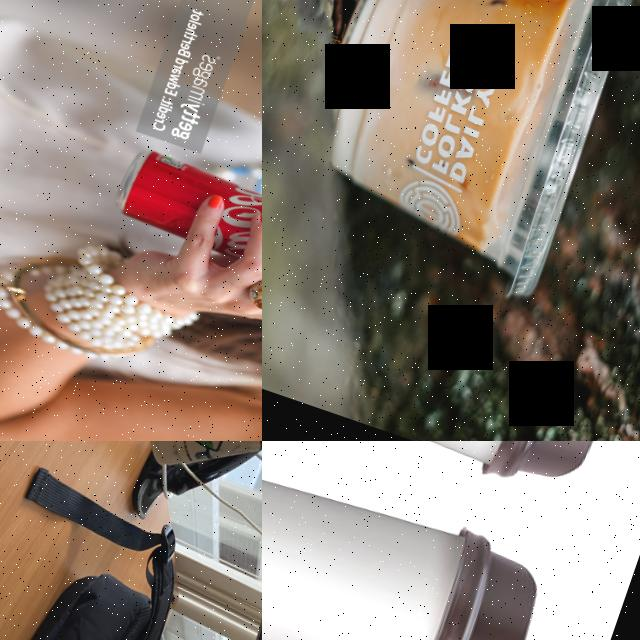can: (105, 141, 262, 310)
cup: (279, 0, 640, 304), (262, 441, 553, 640), (262, 441, 640, 506)
